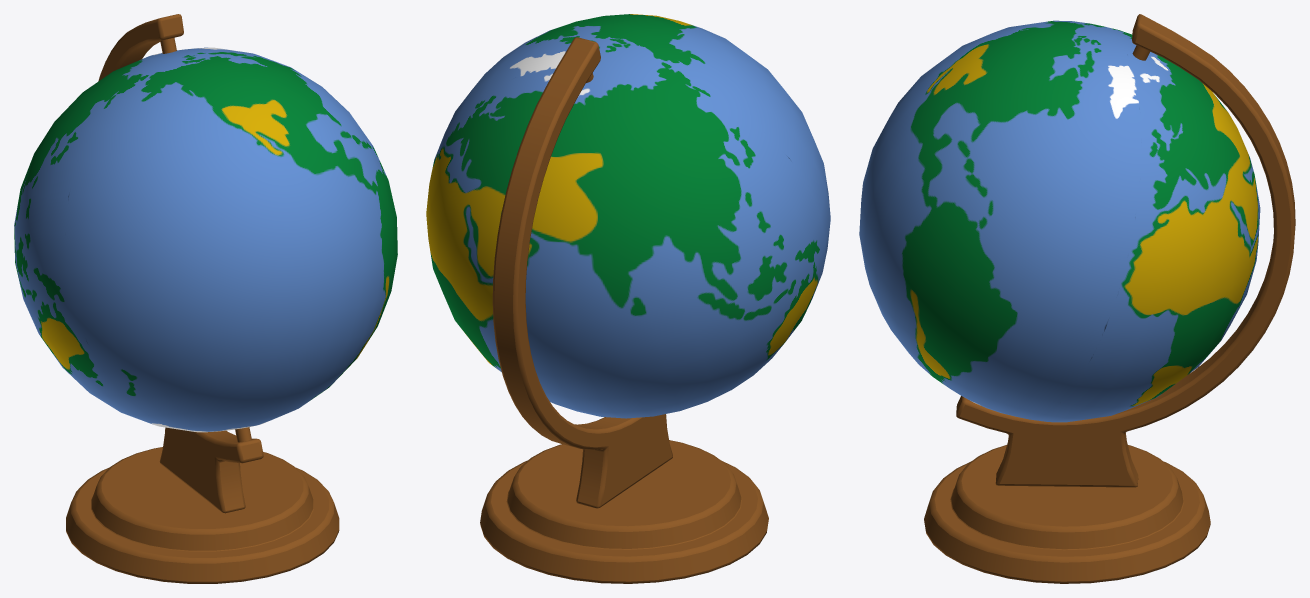
The model's file is Globe.glb.
3 views of the same model, side by side, from view 1: azimuth 30°, elevation 25°; view 2: azimuth 150°, elevation 25°; view 3: azimuth 270°, elevation 25° (orthographic). The views are drawn at different scales.
Visible parts, largest first — view 1: Sphere, Circle; view 2: Sphere, Circle; view 3: Sphere, Circle.
Boxes of the visible parts, box(x1,y1,x2,y2) form: Sphere: box(14, 47, 397, 432); Circle: box(66, 14, 339, 583); Sphere: box(426, 14, 830, 418); Circle: box(480, 37, 768, 583); Sphere: box(859, 20, 1260, 422); Circle: box(924, 14, 1295, 583).
Size of the model in its own units: 0.3643 by 0.5086 by 0.3969.
Materials: 2 (1 with a texture image).
